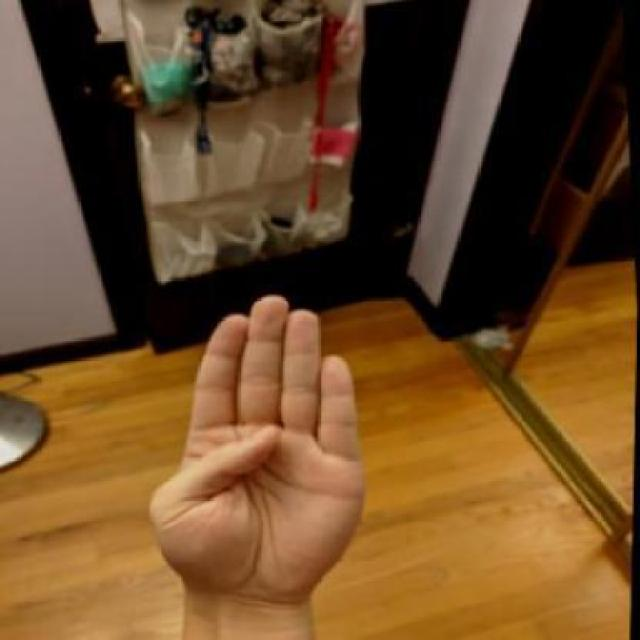B: (124, 283, 384, 626)
